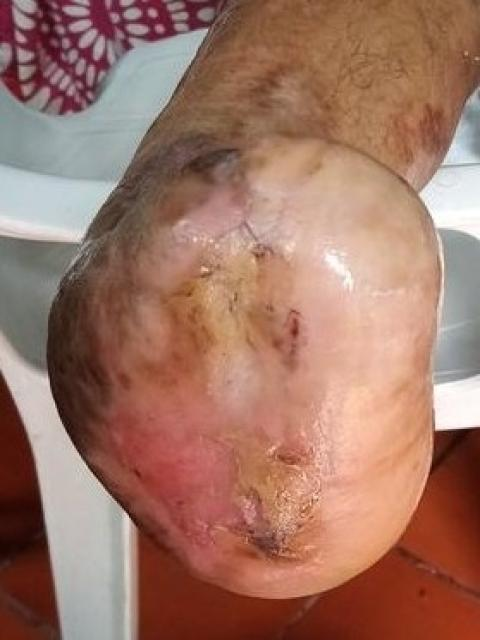wound: (111, 381, 290, 557)
